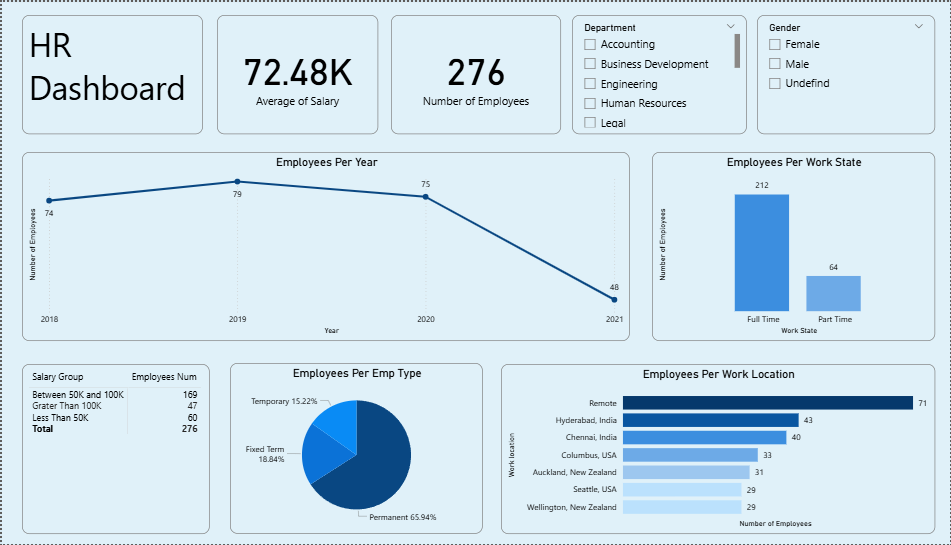

This screenshot's page, from the dashboard's own definition file:
{"tool":"powerbi","page":{"name":"Page 1","canvas":[1400,800],"ordinal":0},"visuals":[{"type":"card","fields":{"Values":["Avg(Staff.Salary)"]},"box":[317.3,19.2,237.6,175.6],"z":0},{"type":"card","fields":{"Values":["CountNonNull(Staff.Emp ID)"]},"box":[574.2,19.2,250.9,175.6],"z":1000},{"type":"textbox","box":[29.5,19.2,267.2,175.6],"z":2000},{"type":"lineChart","title":"Employees Per Year","fields":{"Category":["Staff.Start Date.Variation.Date Hierarchy.Year"],"Y":["CountNonNull(Staff.Emp ID)"]},"box":[29.5,221.4,897.4,279],"z":3000},{"type":"pieChart","title":"Employees Per Emp Type","fields":{"Category":["Staff.Employee type"],"Y":["CountNonNull(Staff.Emp ID)"]},"box":[336.5,532.8,373.4,252.4],"z":4000},{"type":"slicer","fields":{"Values":["Staff.Department"]},"box":[841.3,19.2,258.3,175.6],"z":5000},{"type":"columnChart","title":"Employees Per Work State","fields":{"Category":["Staff.Work State"],"Y":["CountNonNull(Staff.Emp ID)"]},"box":[959.4,221.4,417.7,279],"z":6000},{"type":"slicer","fields":{"Values":["Staff.Gender"]},"box":[1114.4,19.2,262.7,175.6],"z":7000},{"type":"clusteredBarChart","title":"Employees Per Work Location","fields":{"Category":["Staff.Work location"],"Y":["CountNonNull(Staff.Emp ID)"]},"box":[736.5,534.3,640.6,250.9],"z":8000},{"type":"pivotTable","fields":{"Values":["CountNonNull(Staff.Emp ID)"],"Rows":["Staff.Salary Group"]},"box":[29.5,534.3,277.5,250.9],"z":9000}]}

Visuals, with their boxes in screenshot pixels (x1, y1, x2, y2), scaled from the page's 1400x800 canvas onto the 951x545 screenshot:
card - Avg(Staff.Salary): Rect(216, 13, 377, 133)
card - CountNonNull(Staff.Emp ID): Rect(390, 13, 560, 133)
textbox: Rect(20, 13, 202, 133)
"Employees Per Year" lineChart: Rect(20, 151, 630, 341)
"Employees Per Emp Type" pieChart: Rect(229, 363, 482, 535)
slicer - Staff.Department: Rect(571, 13, 747, 133)
"Employees Per Work State" columnChart: Rect(652, 151, 935, 341)
slicer - Staff.Gender: Rect(757, 13, 935, 133)
"Employees Per Work Location" clusteredBarChart: Rect(500, 364, 935, 535)
pivotTable - CountNonNull(Staff.Emp ID) x Staff.Salary Group: Rect(20, 364, 209, 535)
